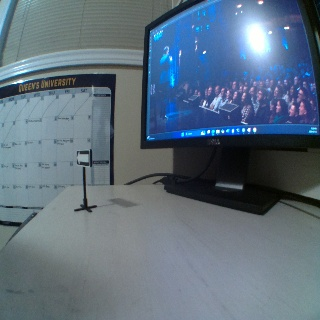sign_oneway_left: (74, 149, 94, 167)
